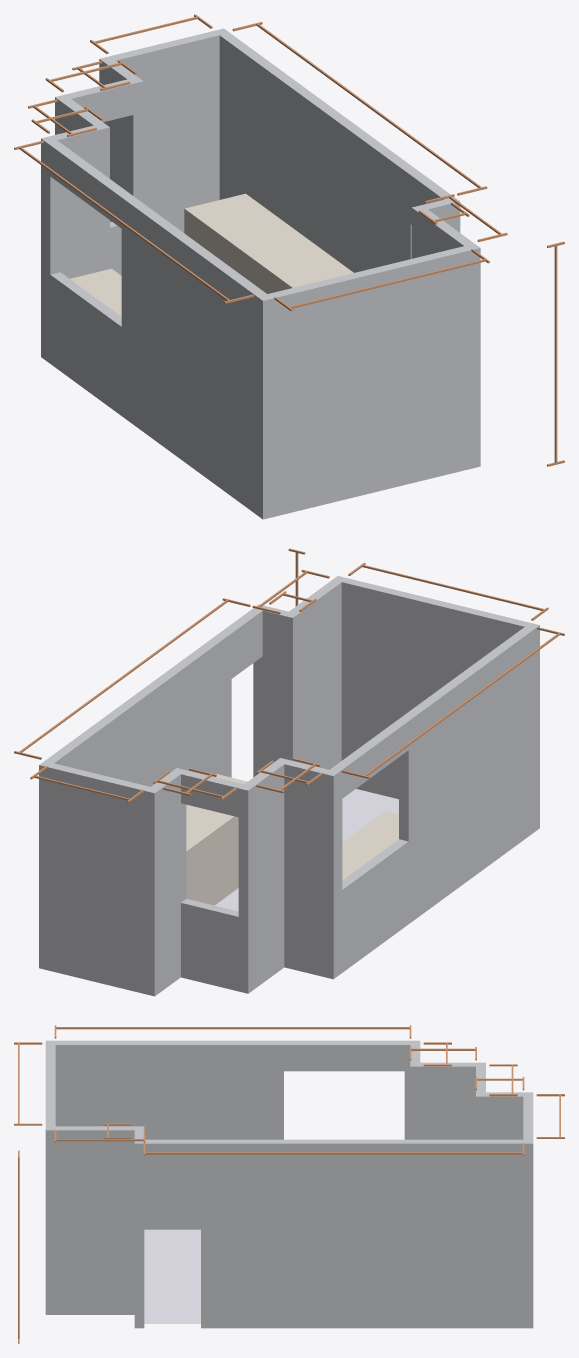
Rendered from room-kitchen.glb.
The picture shows the model from 3 angles, top to bottom: view 1: azimuth 30°, elevation 25°; view 2: azimuth 150°, elevation 25°; view 3: azimuth 270°, elevation 25°; orthographic projection. The views are drawn at different scales.
Visible parts, largest first — view 1: kitchen; view 2: kitchen; view 3: kitchen.
Boxes of the visible parts, bbox=[...] form: kitchen: bbox=[14, 14, 564, 519]; kitchen: bbox=[14, 548, 564, 996]; kitchen: bbox=[14, 1025, 564, 1343].
Size of the model in its own units: 3.73 by 2.49 by 6.63.
